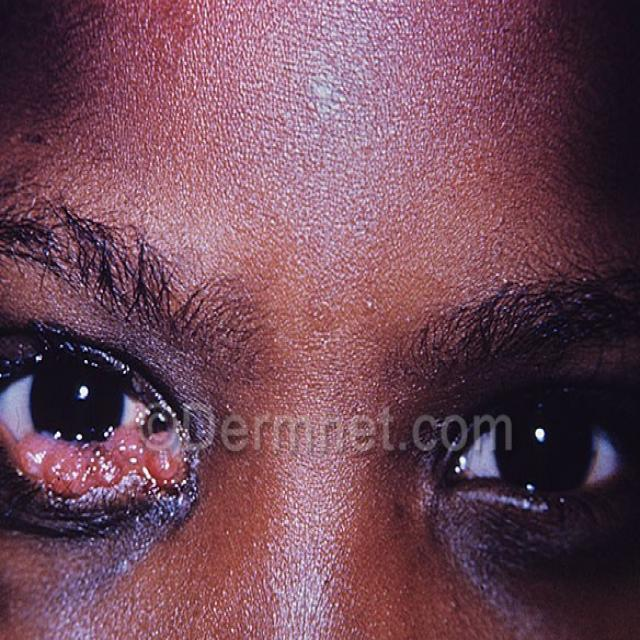Warts: (15, 415, 224, 551)
